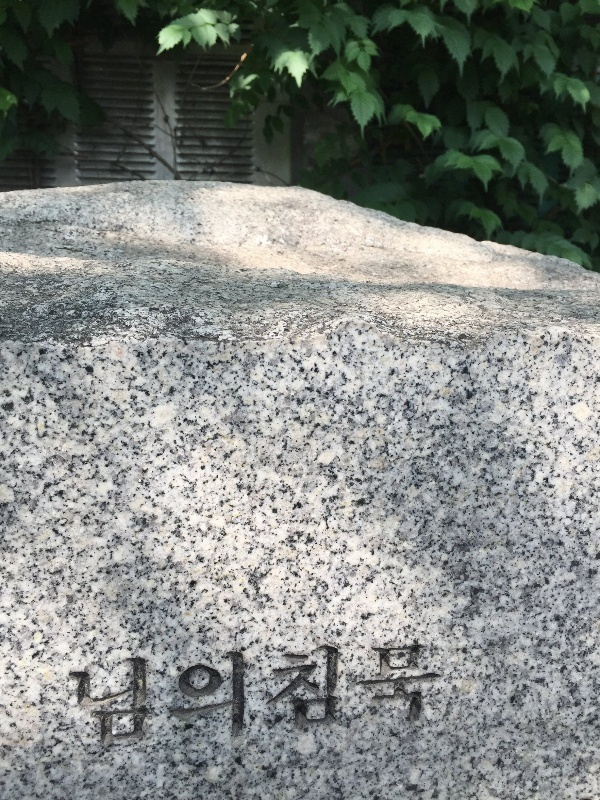text: (81, 636, 96, 764), (97, 636, 112, 764), (113, 636, 128, 764), (129, 636, 144, 764), (145, 636, 160, 764), (161, 636, 176, 764), (177, 636, 192, 764), (193, 636, 208, 764), (209, 636, 224, 764), (225, 636, 240, 764), (241, 636, 256, 764), (257, 636, 272, 764), (273, 636, 288, 764), (289, 636, 304, 764), (305, 636, 320, 764), (321, 636, 336, 764), (337, 636, 352, 764), (353, 636, 368, 764), (369, 636, 384, 764), (385, 636, 400, 764), (401, 636, 416, 764), (417, 636, 432, 764), (68, 636, 80, 764), (433, 636, 444, 764)
